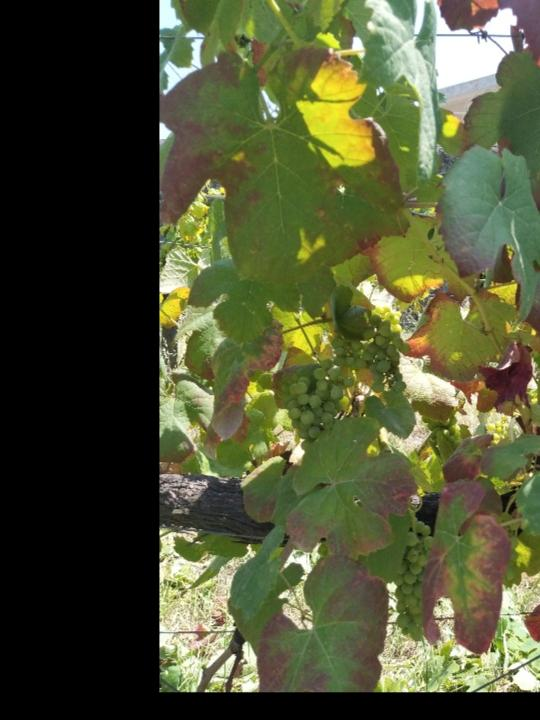grape: (329, 304, 412, 395), (285, 356, 355, 453), (391, 513, 436, 643)
